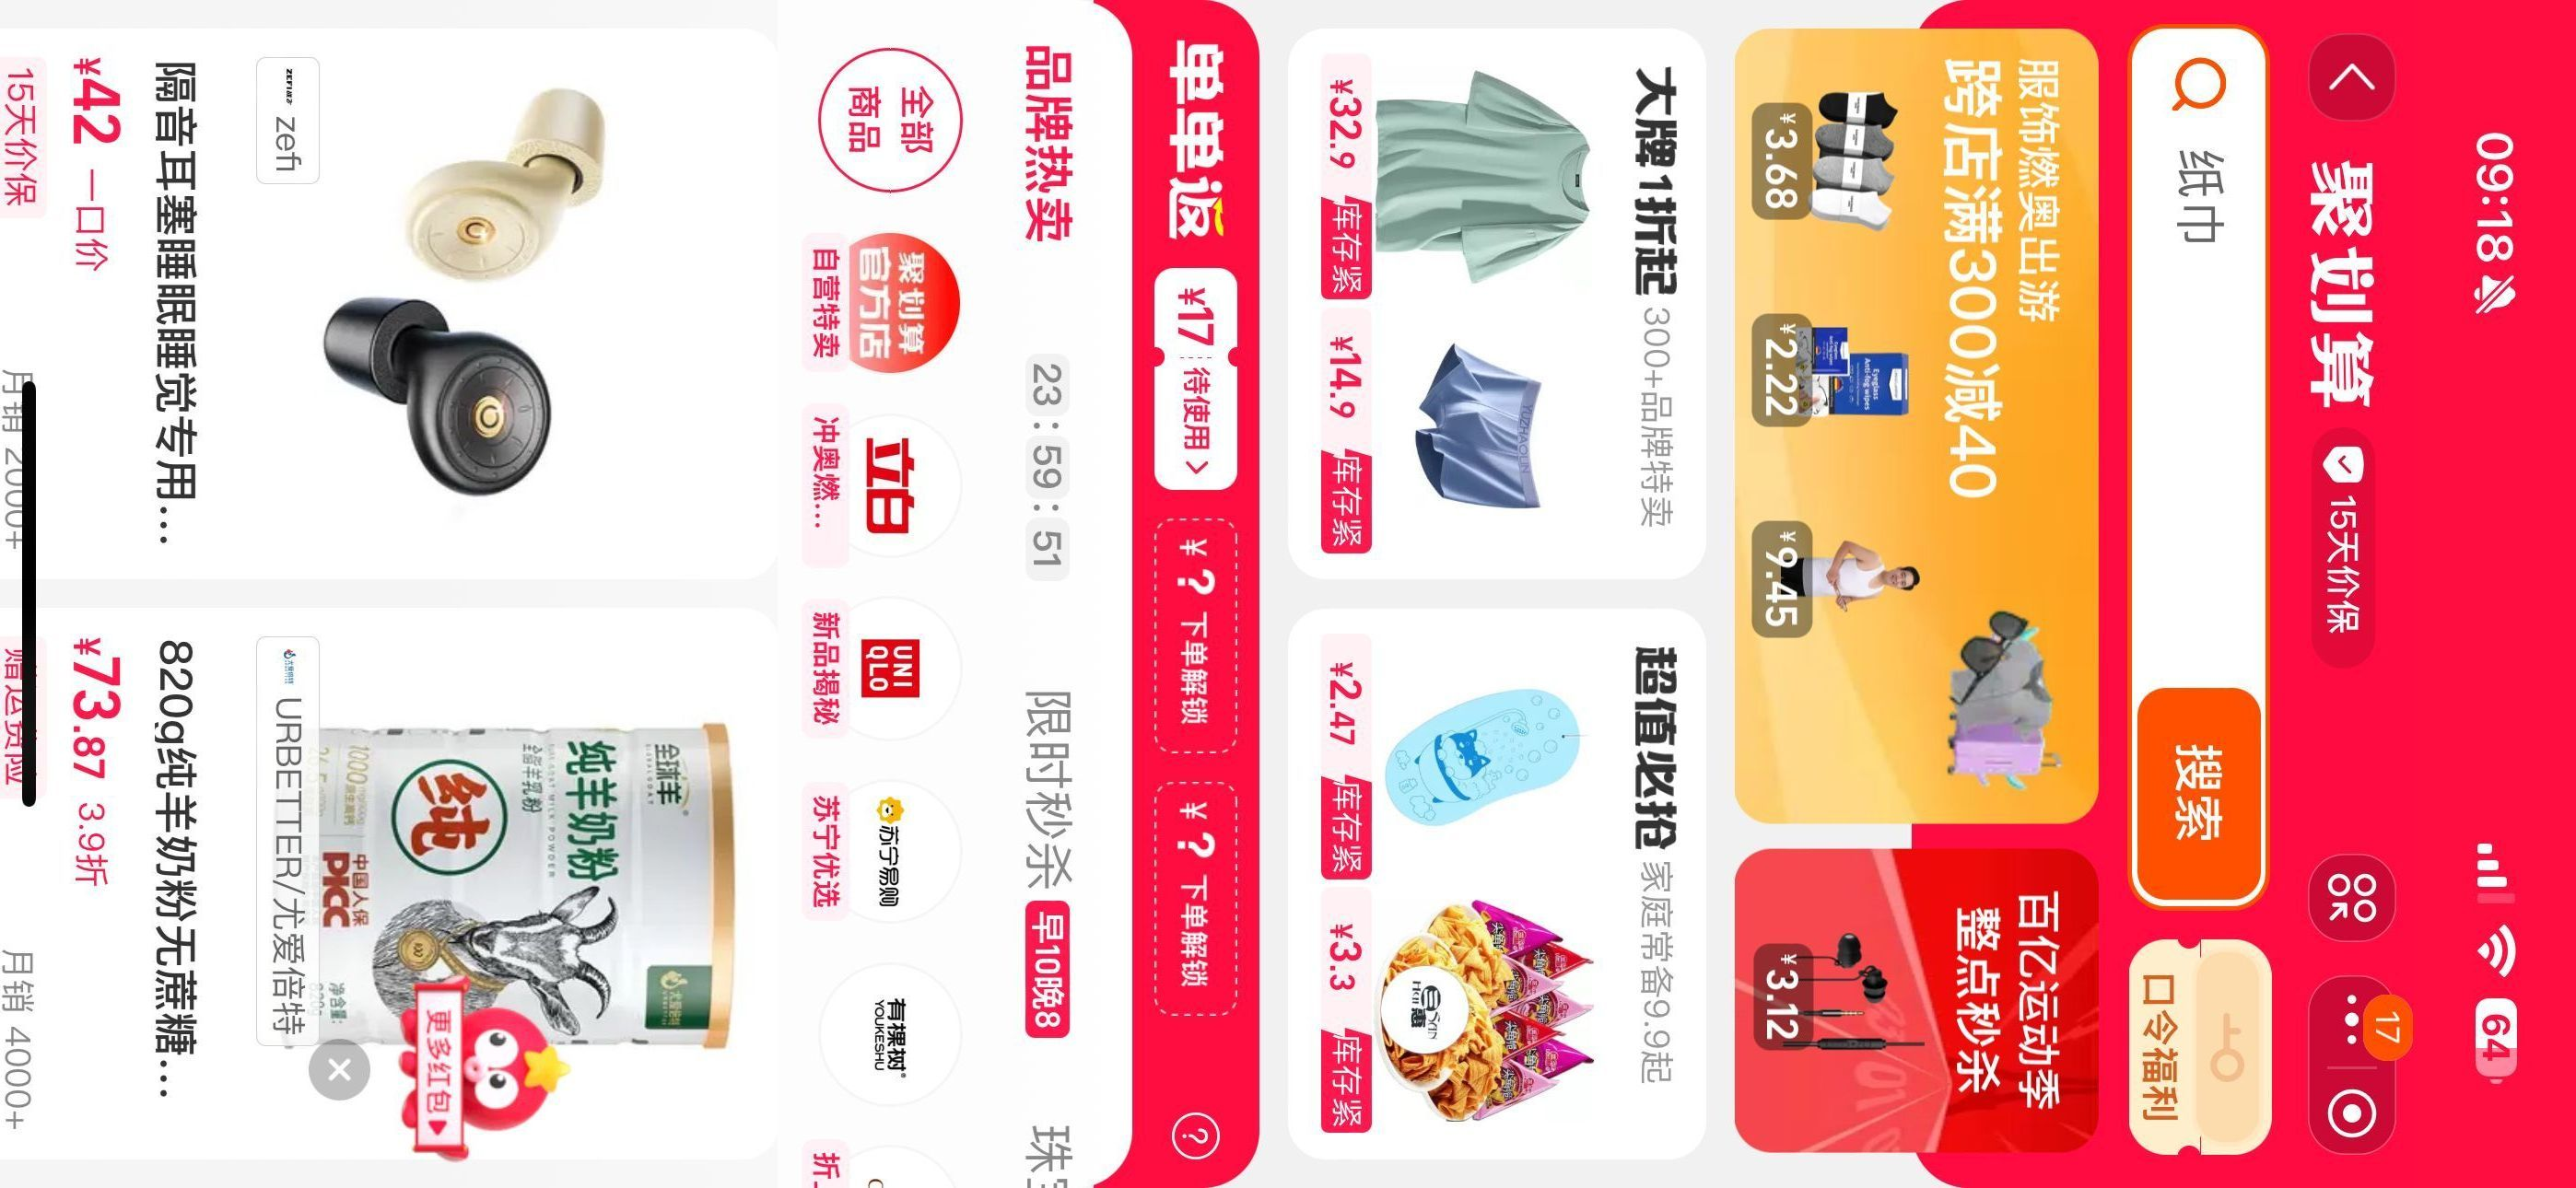item: (2, 21, 787, 603), (2, 595, 787, 1173)
op_bar: (2292, 5, 2417, 1188)
seckill: (1272, 3, 2113, 1181)
